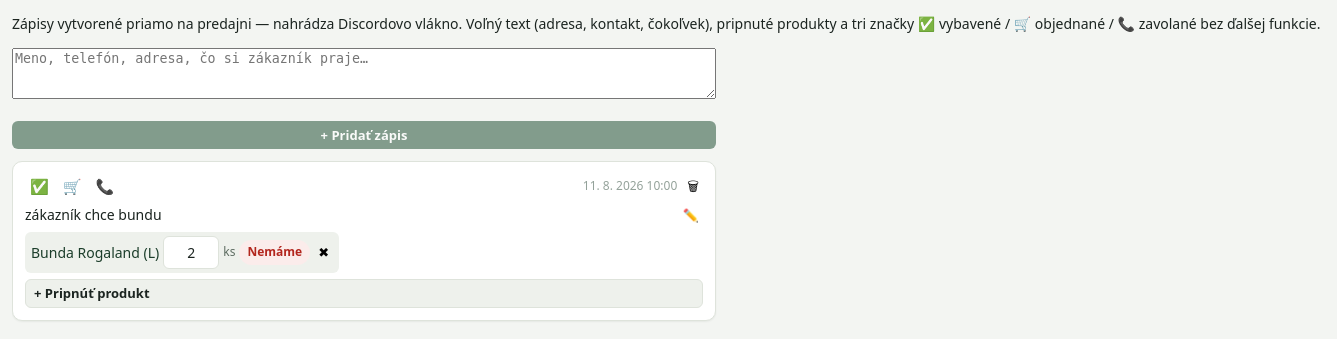
Test: odopne produkt zo zápisu
Expected: the link with test id "floor-note-product-link-note-a-40237/L" is shown, [31, 243, 159, 262]
Click the button with test id "floor-note-product-detach-note-a-40237/L": point(324, 253) [314, 242, 333, 263]
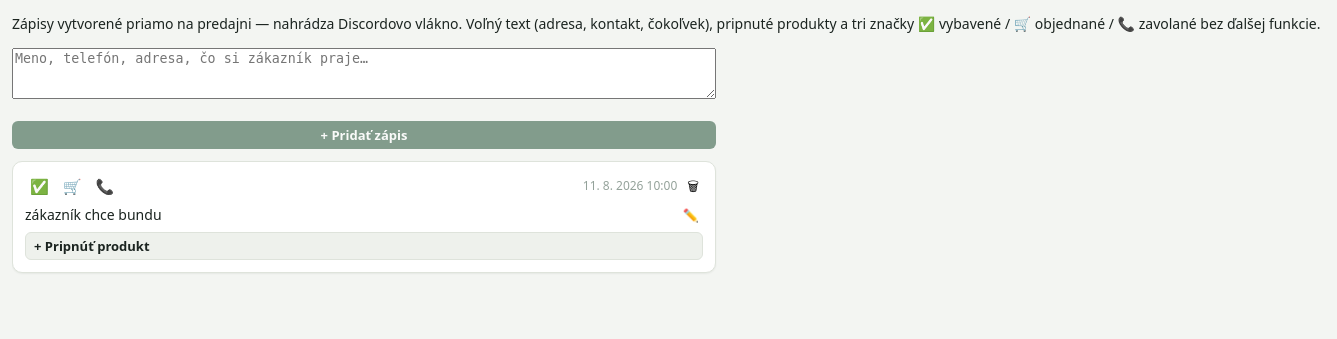
Expected: the link with test id "floor-note-product-link-note-a-40237/L" is gone
